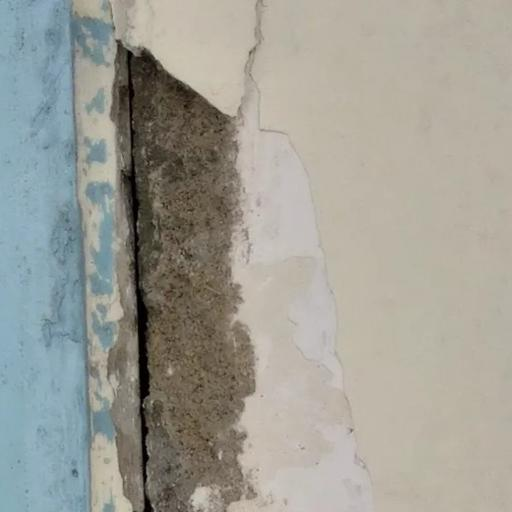spalling: (109, 27, 395, 512)
